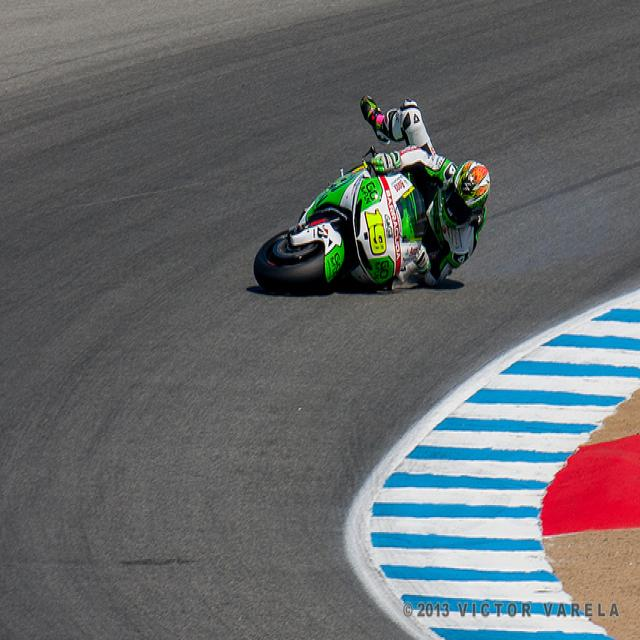motor: (251, 165, 431, 293)
